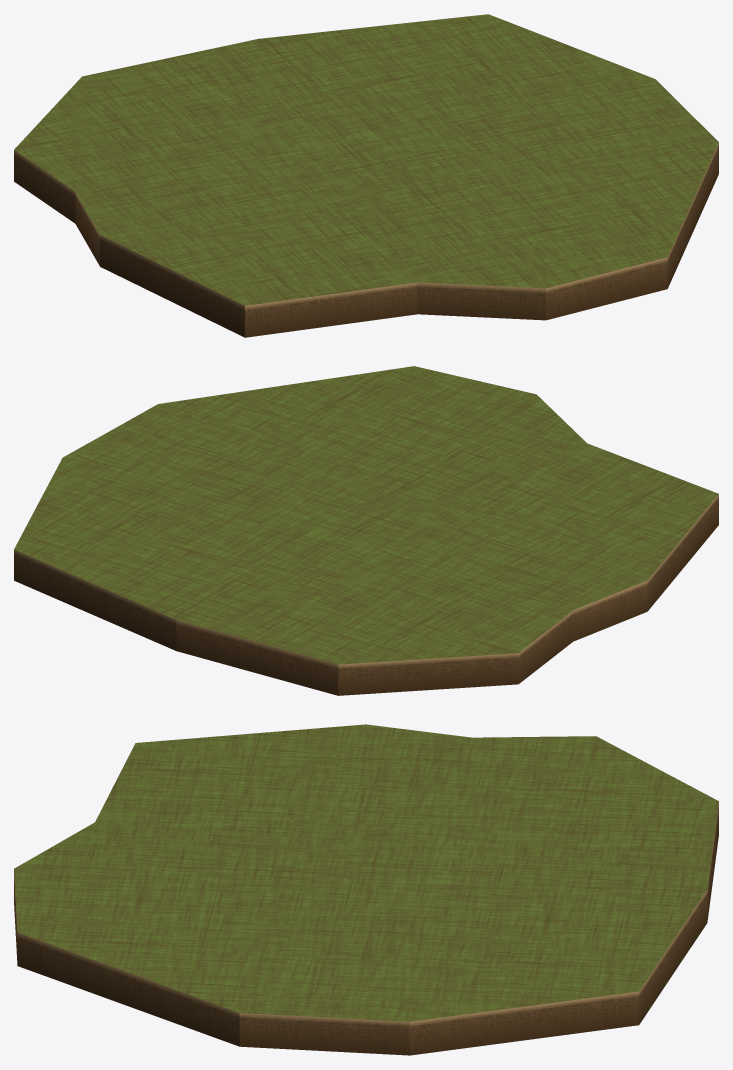
Rendered from Terrain01_F.FBX.
3 renders of one model, top to bottom at view 1: azimuth 30°, elevation 25°; view 2: azimuth 150°, elevation 25°; view 3: azimuth 270°, elevation 25°, orthographic. The views are drawn at different scales.
Visible parts, largest first — view 1: Terrain01_F; view 2: Terrain01_F; view 3: Terrain01_F.
Boxes of the visible parts, left/top/right/bottom form: Terrain01_F: left=14, top=14, right=718, bottom=337; Terrain01_F: left=14, top=366, right=718, bottom=695; Terrain01_F: left=14, top=724, right=718, bottom=1055.
Size of the model in its own units: 950 by 50.17 by 951.
Materials: 1 (1 with a texture image).
